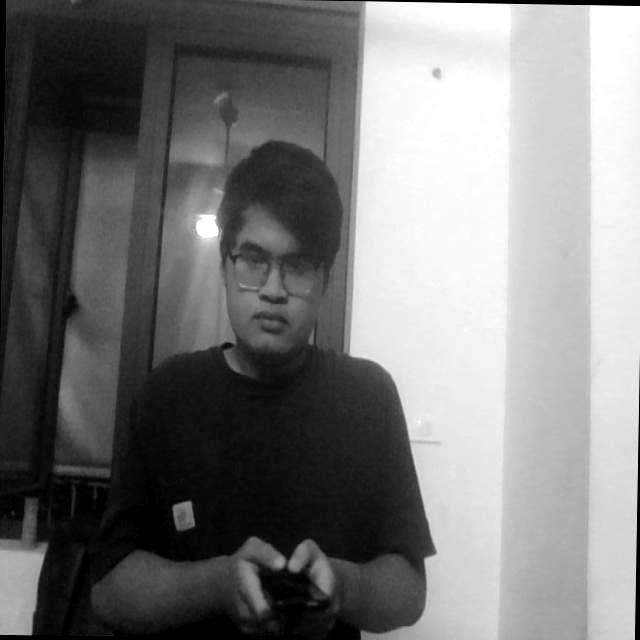phone: (247, 536, 346, 632)
